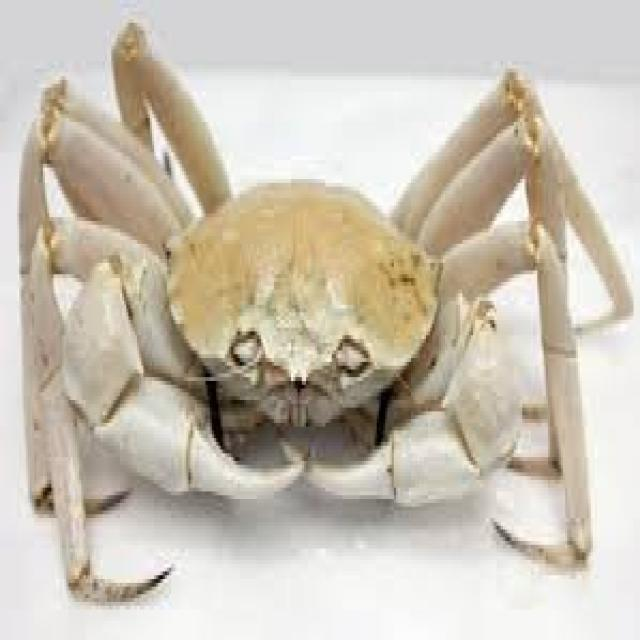crab: (138, 124, 433, 443)
